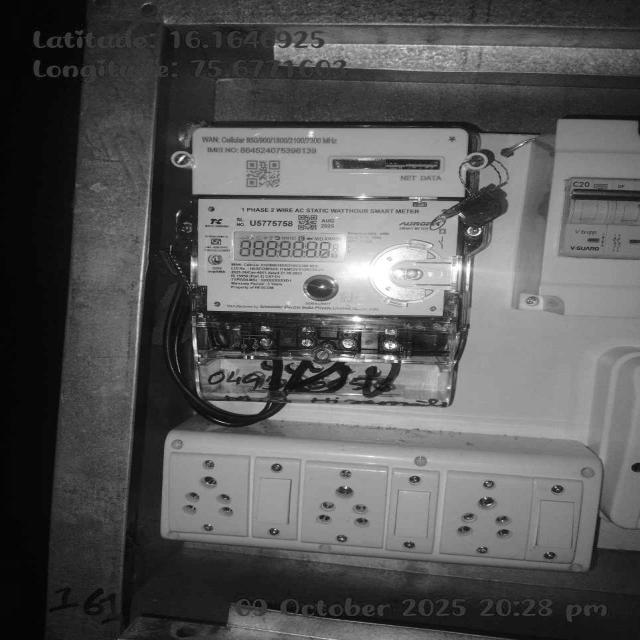meter: (184, 125, 474, 318)
